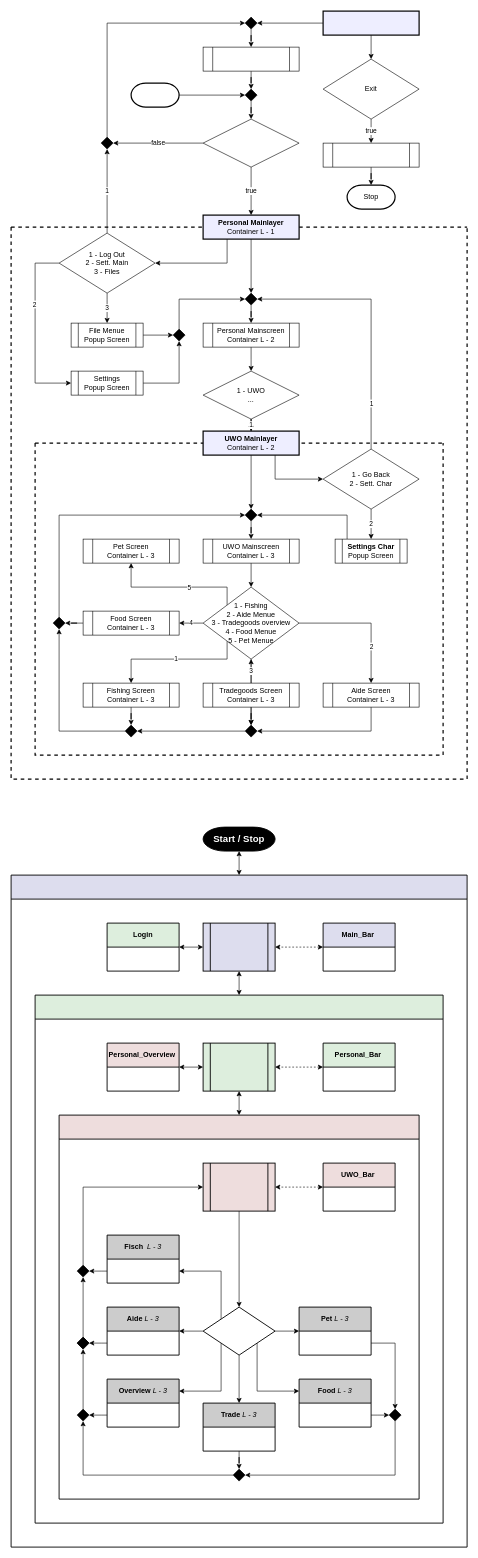
Image size: 478x1558. Some labels were removed from this diagram. The box of each missing label's shape, as (x1, y1, x2, y2) in pixels:
Basic Mainlayer Container L - 0: (322, 10, 419, 35)
Basic Screen L - 0: (10, 874, 467, 1547)
Contr_Main: (202, 922, 275, 971)
Contr_Pers: (202, 1042, 275, 1091)
Contr_UWO: (202, 1162, 275, 1211)
Login Menue Container L - 1: (202, 46, 299, 71)
Logout Progress Container L - 0: (322, 142, 419, 167)
Personal Screen L - 1: (34, 994, 443, 1523)
Start: (130, 82, 179, 107)
Token / Inputcheck: (202, 118, 299, 167)
UWO Screen L - 2: (58, 1114, 419, 1499)
